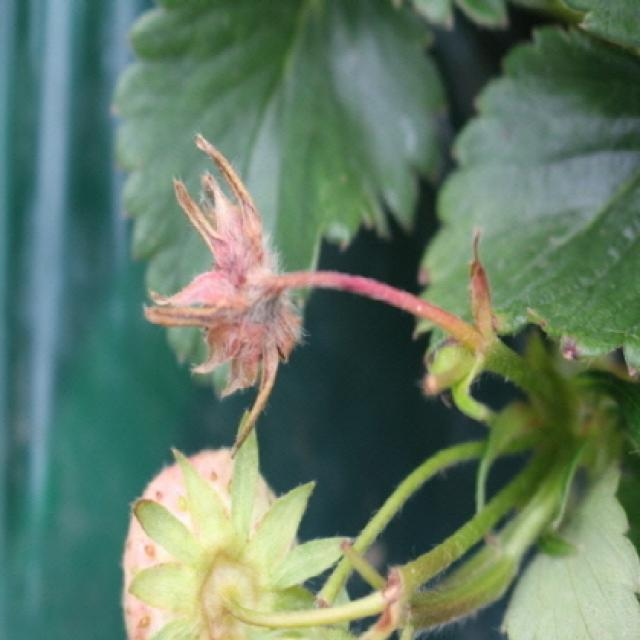Gray Mold: (142, 131, 363, 461)
